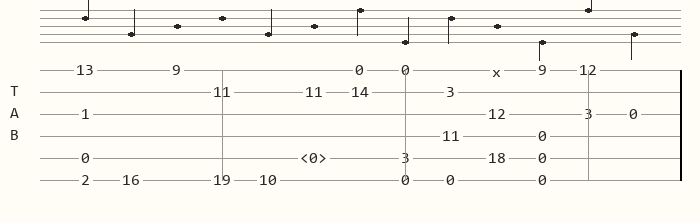0: (81, 151, 94, 165), (355, 63, 368, 77), (401, 173, 414, 187), (401, 63, 414, 77), (446, 173, 459, 187), (538, 129, 551, 143), (538, 173, 551, 187), (538, 151, 551, 165), (629, 107, 642, 121)
1: (81, 107, 94, 121)
10: (259, 173, 281, 187)
11: (213, 85, 235, 99), (305, 85, 327, 99), (442, 129, 464, 143)
12: (488, 107, 510, 121), (579, 63, 601, 77)
13: (76, 63, 98, 77)
14: (351, 85, 373, 99)
16: (122, 173, 144, 187)
18: (488, 151, 510, 165)
19: (213, 173, 235, 187)
2: (81, 173, 94, 187)
3: (401, 151, 414, 165), (446, 85, 459, 99), (584, 107, 597, 121)
9: (172, 63, 185, 77), (538, 63, 551, 77)
harmonic: (300, 151, 331, 165)
x: (492, 65, 505, 76)
